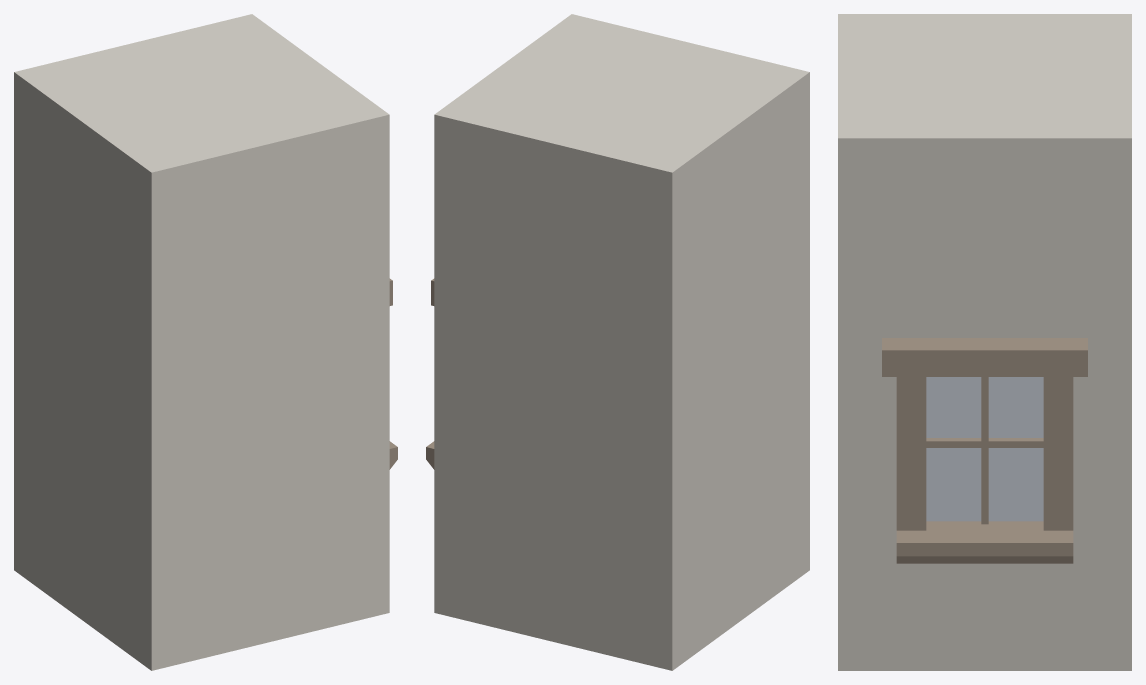
File: Stucco_Window_Single_Narrow_Tall.glb
The picture shows the model from 3 angles, left to right: view 1: azimuth 30°, elevation 25°; view 2: azimuth 150°, elevation 25°; view 3: azimuth 270°, elevation 25°; orthographic projection. The views are drawn at different scales.
Visible parts, largest first — view 1: object2; view 2: object2; view 3: object2, object3, object1.
Part boxes in pixels (x1=…): object2: x1=14, y1=14, x2=389, y2=670; object2: x1=434, y1=14, x2=809, y2=670; object2: x1=838, y1=14, x2=1131, y2=670; object3: x1=882, y1=338, x2=1087, y2=563; object1: x1=926, y1=377, x2=1043, y2=524.
Size of the model in its own units: 1.15 by 2 by 1.
